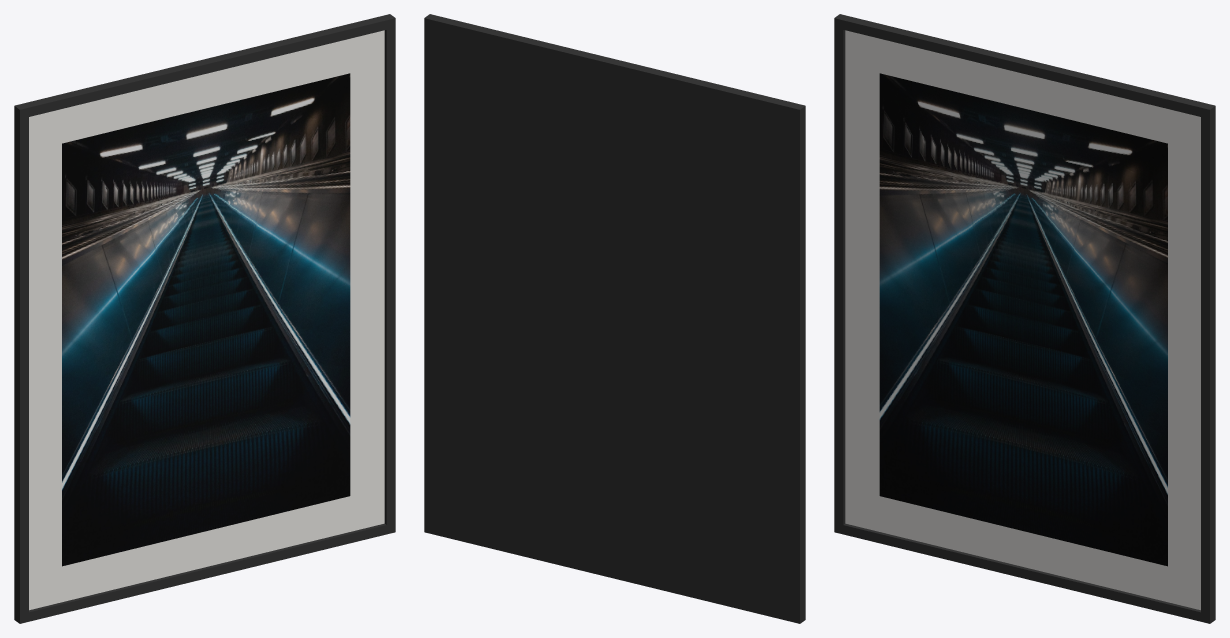
File: rulltrappan-90.gltf
3 views of the same model, side by side, from view 1: azimuth 30°, elevation 25°; view 2: azimuth 150°, elevation 25°; view 3: azimuth 330°, elevation 25° (orthographic).
Visible parts, largest first — view 1: tavla; view 2: tavla; view 3: tavla.
Part boxes in pixels (left/top/right/bottom): tavla: left=14, top=14, right=395, bottom=623; tavla: left=424, top=14, right=805, bottom=623; tavla: left=834, top=14, right=1215, bottom=623.
Bounding box in the file's own units: 0.8373 × 1.09 × 0.022.
Materials: 3 (1 with a texture image).
